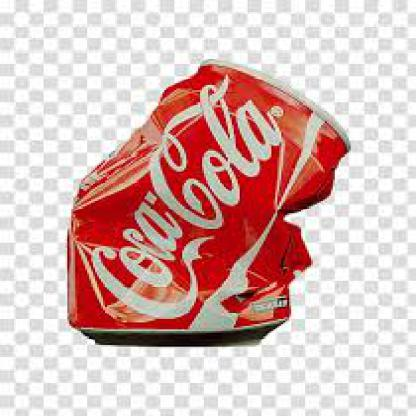Compsot: (64, 57, 350, 345)
